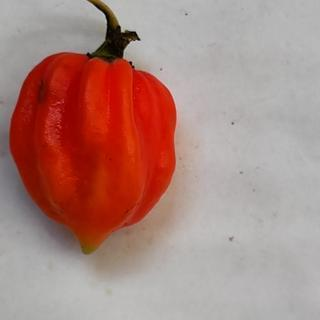Grade-B: (5, 48, 179, 246)
